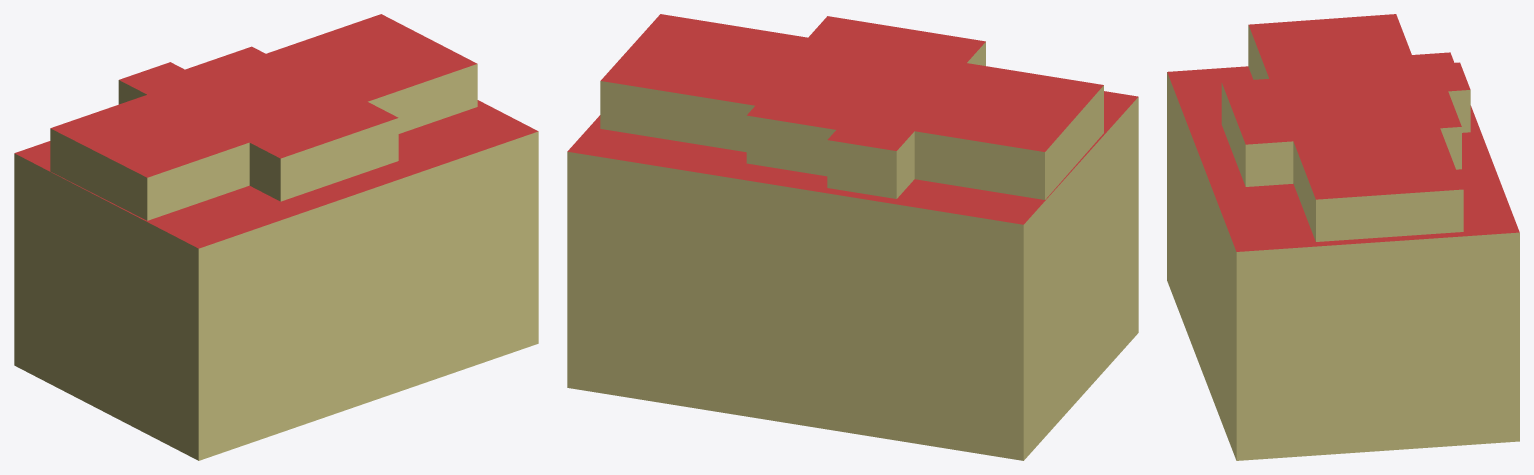
3 views of the same model, side by side, from view 1: azimuth 30°, elevation 25°; view 2: azimuth 150°, elevation 25°; view 3: azimuth 270°, elevation 25° (orthographic). The views are drawn at different scales.
Bounding box in the file's own units: 30.13 × 22.49 × 17.69.
